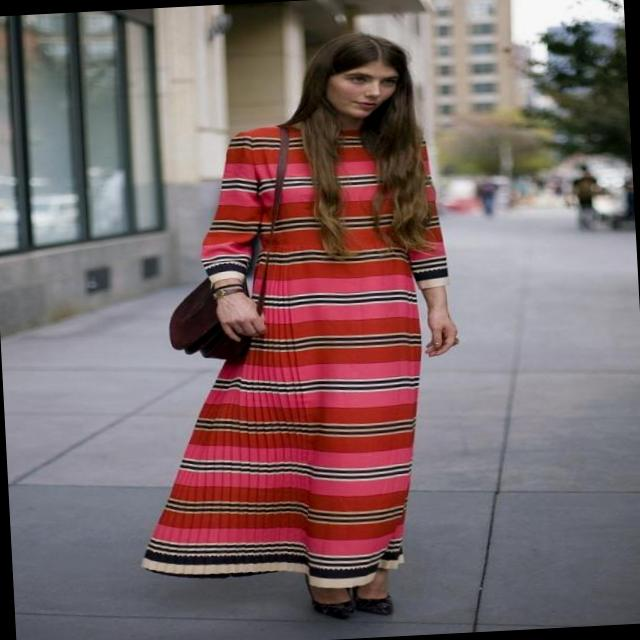dress: (116, 115, 465, 600)
